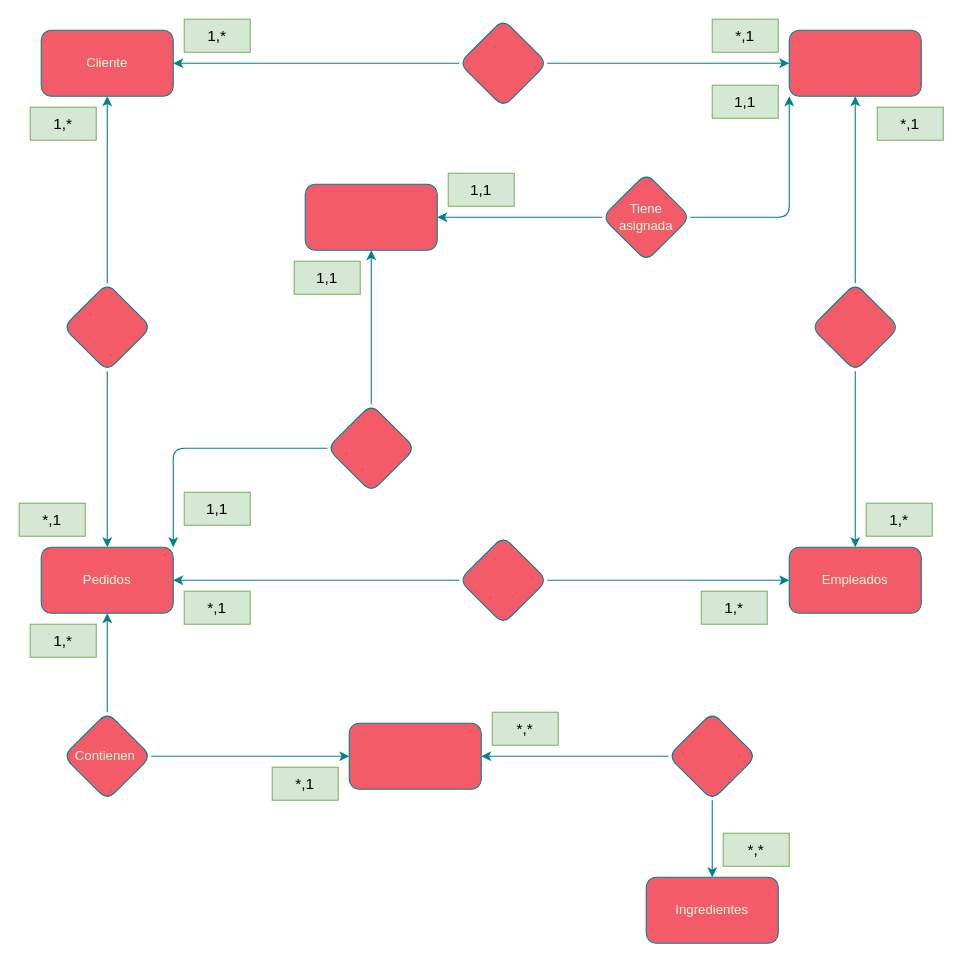
This 963x963 diagram has some shape labels left out. The shapes that lost their labels are listed below. From the top down, each one's box as (x1, y1, x2, y2) in pixels, then its label:
(458, 18, 547, 107): Realiza
(788, 29, 921, 96): Reservaciones
(304, 183, 437, 250): Mesa
(62, 282, 151, 371): Solicita
(810, 282, 899, 371): Creado
(326, 403, 415, 492): Pertenece
(458, 535, 547, 624): Toma
(348, 722, 481, 789): Productos
(667, 711, 756, 800): Contiene
